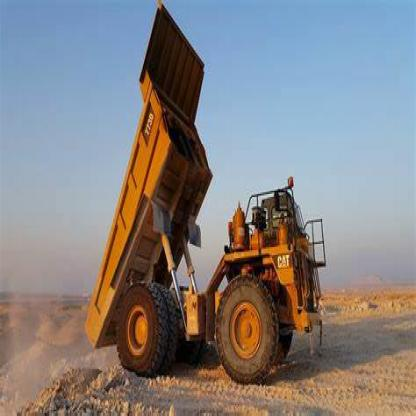dump_truck: (74, 6, 324, 383)
